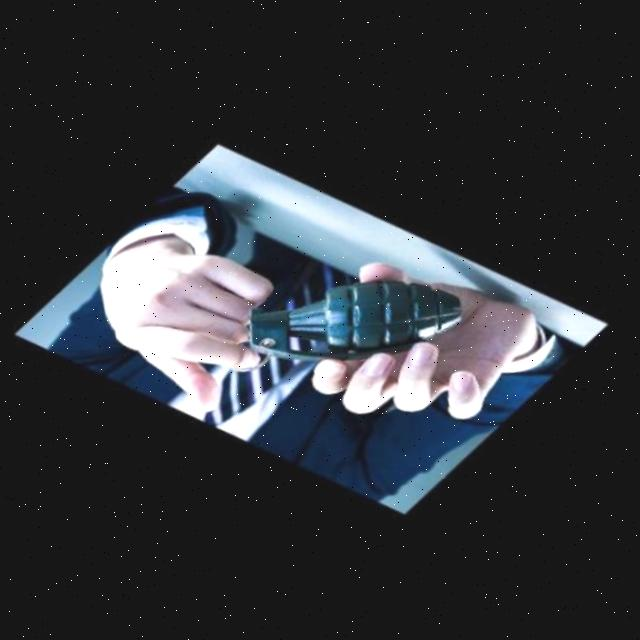grenade: (233, 246, 475, 381)
